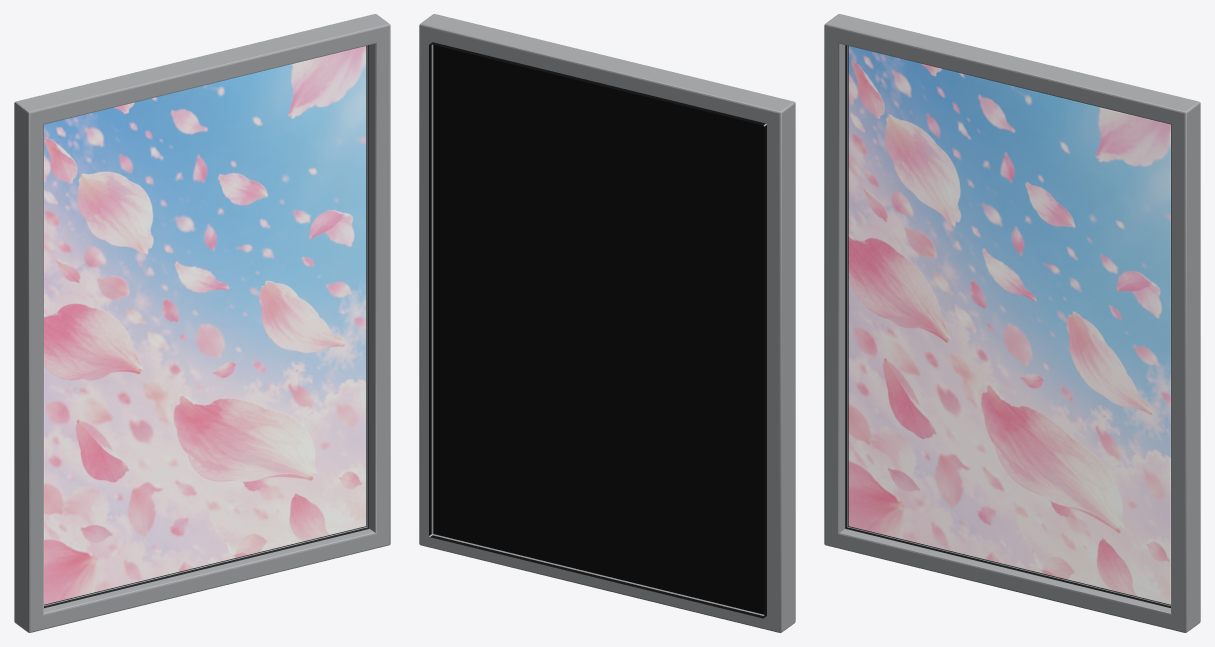
File: gteki_poster_lightbox_04.glb
3 views of the same model, side by side, from view 1: azimuth 30°, elevation 25°; view 2: azimuth 150°, elevation 25°; view 3: azimuth 330°, elevation 25° (orthographic).
Parts seen in each view (by area): view 1: VIS_body; view 2: VIS_body; view 3: VIS_body.
Part boxes in pixels (<box>): VIS_body: <box>14,14,390,632</box>; VIS_body: <box>419,14,795,632</box>; VIS_body: <box>824,14,1200,632</box>.
Size of what is drawn, in the model's own units: 0.8 by 1.1 by 0.07.
3 materials, 3 textured.
